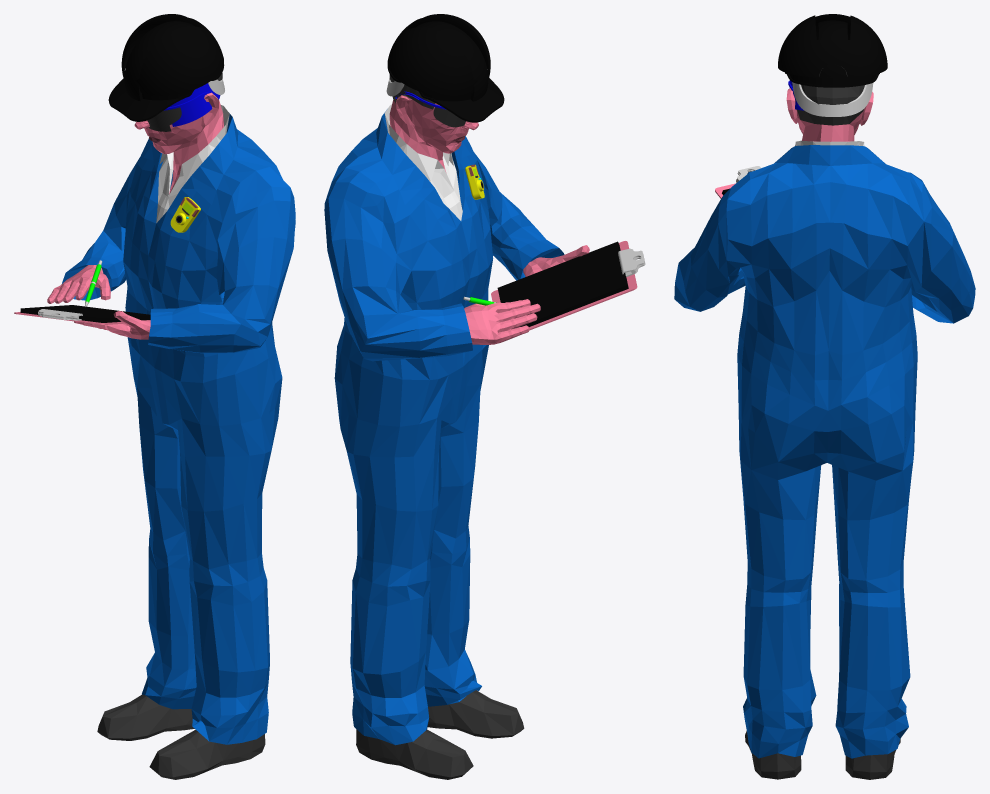
File: assembly-45.glb
3 renders of one model, left to right at view 1: azimuth 30°, elevation 25°; view 2: azimuth 150°, elevation 25°; view 3: azimuth 270°, elevation 25°, orthographic.
Parts seen in each view (by area): view 1: Ernie 3D PPE Clipboard 2014-2; view 2: Ernie 3D PPE Clipboard 2014-2; view 3: Ernie 3D PPE Clipboard 2014-2.
Boxes of the visible parts, x1=… form: Ernie 3D PPE Clipboard 2014-2: x1=14, y1=14, x2=295, y2=779; Ernie 3D PPE Clipboard 2014-2: x1=324, y1=14, x2=645, y2=779; Ernie 3D PPE Clipboard 2014-2: x1=674, y1=14, x2=975, y2=779.
Size of the model in its own units: 0.7056 by 1.84 by 0.6846.
